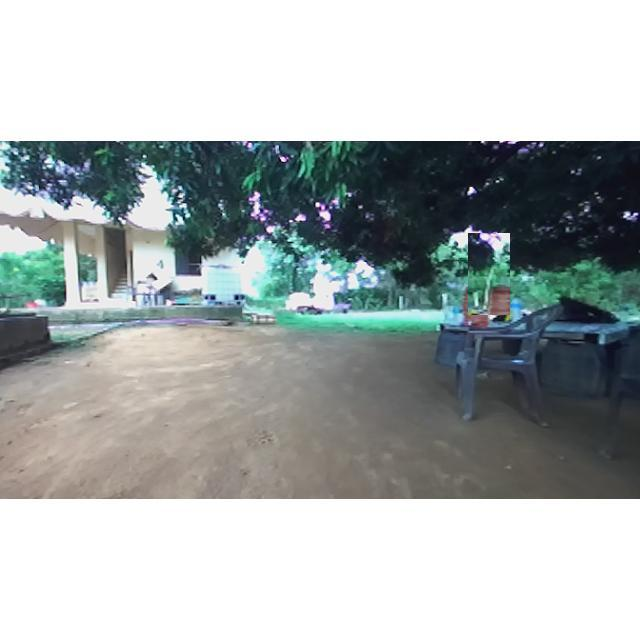tree: (1, 142, 640, 282), (366, 228, 434, 320), (468, 233, 510, 315)
